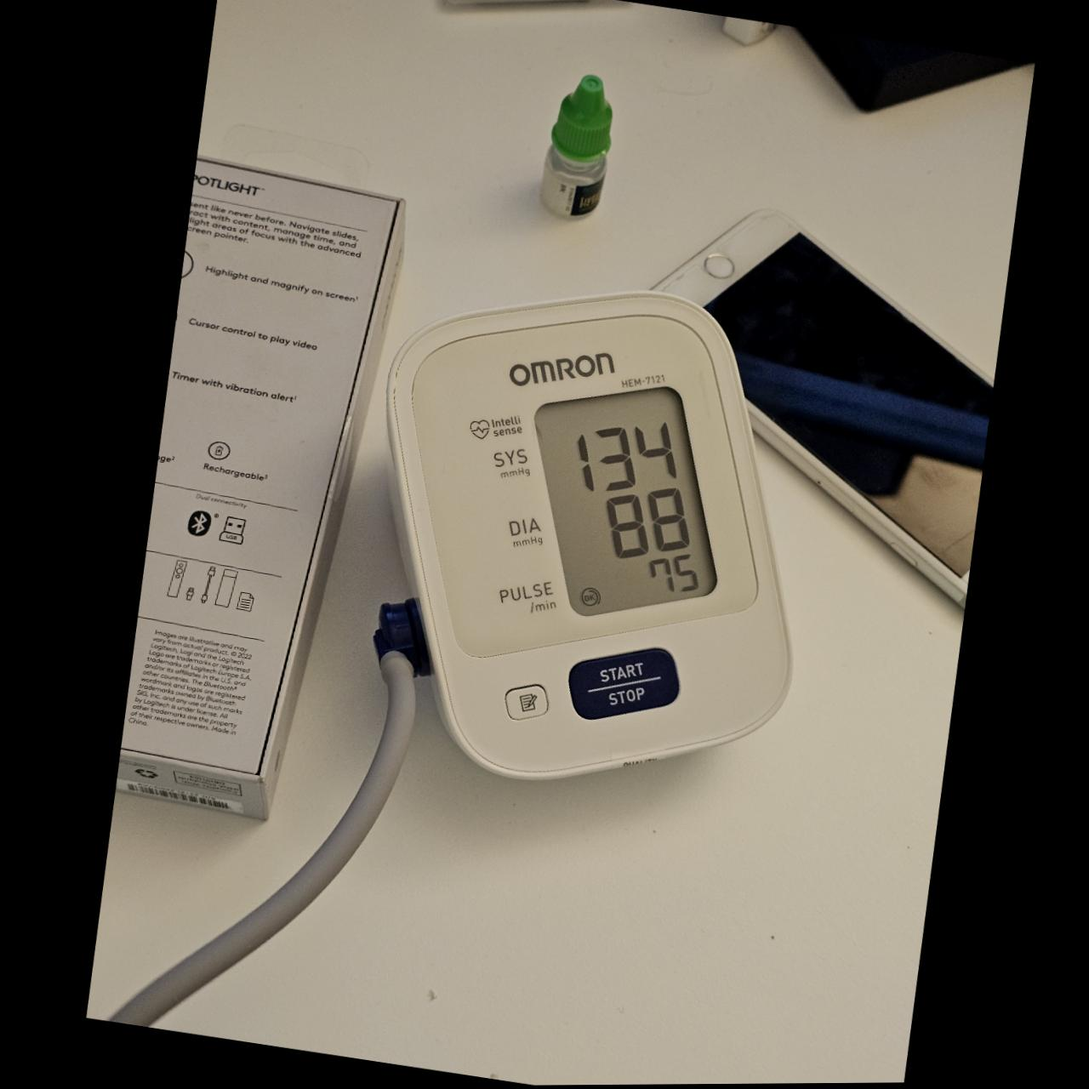lcd display: (501, 364, 750, 640)
